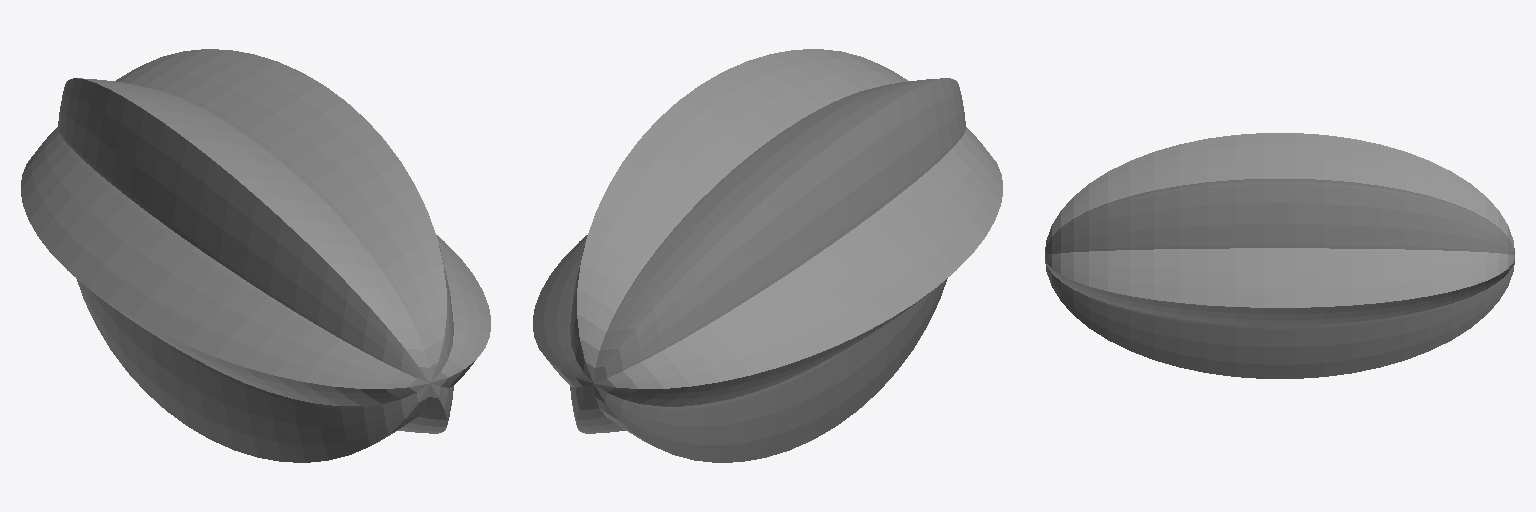
The robot description file, URDF, robot "cube.urdf":
<?xml version="0.0" ?> 
<robot name="cube.urdf"> 
<link name="legobrick"> 
<contact> 
<lateral_friction value="1.0"/>
<rolling_friction value="0.0"/>
<contact_cfm value="0.0"/>
<contact_erp value="1.0"/>
</contact> 
<inertial> 
<origin rpy="0 0 0" xyz="0.0 0.0 0.0"/> 
<mass value="0.1"/> 
<inertia ixx="1" ixy="0" ixz="0" iyy="1" iyz="0" izz="1"/> 
</inertial> 
<visual> 
<origin rpy="1.570796 0 0" xyz="-5.78703703708429e-08 -4.34027717752592e-10 1.8156828704075794e-07"/> 
<geometry> 
<mesh filename="6f8062392721742962a30a51f7713338_1.obj" scale="1 1 1"/> 
</geometry> 
<material name="yellow"> 
<color rgba="0.6 0.6 0.6 1"/> 
</material> 
</visual> 
<collision> 
<origin rpy="1.570796 0 0" xyz="-5.78703703708429e-08 -4.34027717752592e-10 1.8156828704075794e-07"/> 
<geometry> 
<mesh filename="6f8062392721742962a30a51f7713338_1_col.obj" scale="1 1 1"/> 
</geometry> 
</collision> 
</link> 
</robot>

--- Render facts (derived) ---
3 views of the same robot in one strip: view 1: azimuth 30°, elevation 25°; view 2: azimuth 150°, elevation 25°; view 3: azimuth 270°, elevation 25° (orthographic).
Model cube.urdf with 1 links and 0 joints (none), rooted at legobrick, posed all joints at 0.
Visible links, largest first — view 1: legobrick; view 2: legobrick; view 3: legobrick.
Boxes of the visible links, box(x1,y1,x2,y2) form: legobrick: box(21, 49, 490, 462); legobrick: box(533, 49, 1002, 462); legobrick: box(1045, 133, 1514, 378).
Bounding box of the posed robot: 0.045 × 0.0857 × 0.039 m (x, y, z).
1 mesh visuals loaded from 1 distinct referenced files (1 OBJ).